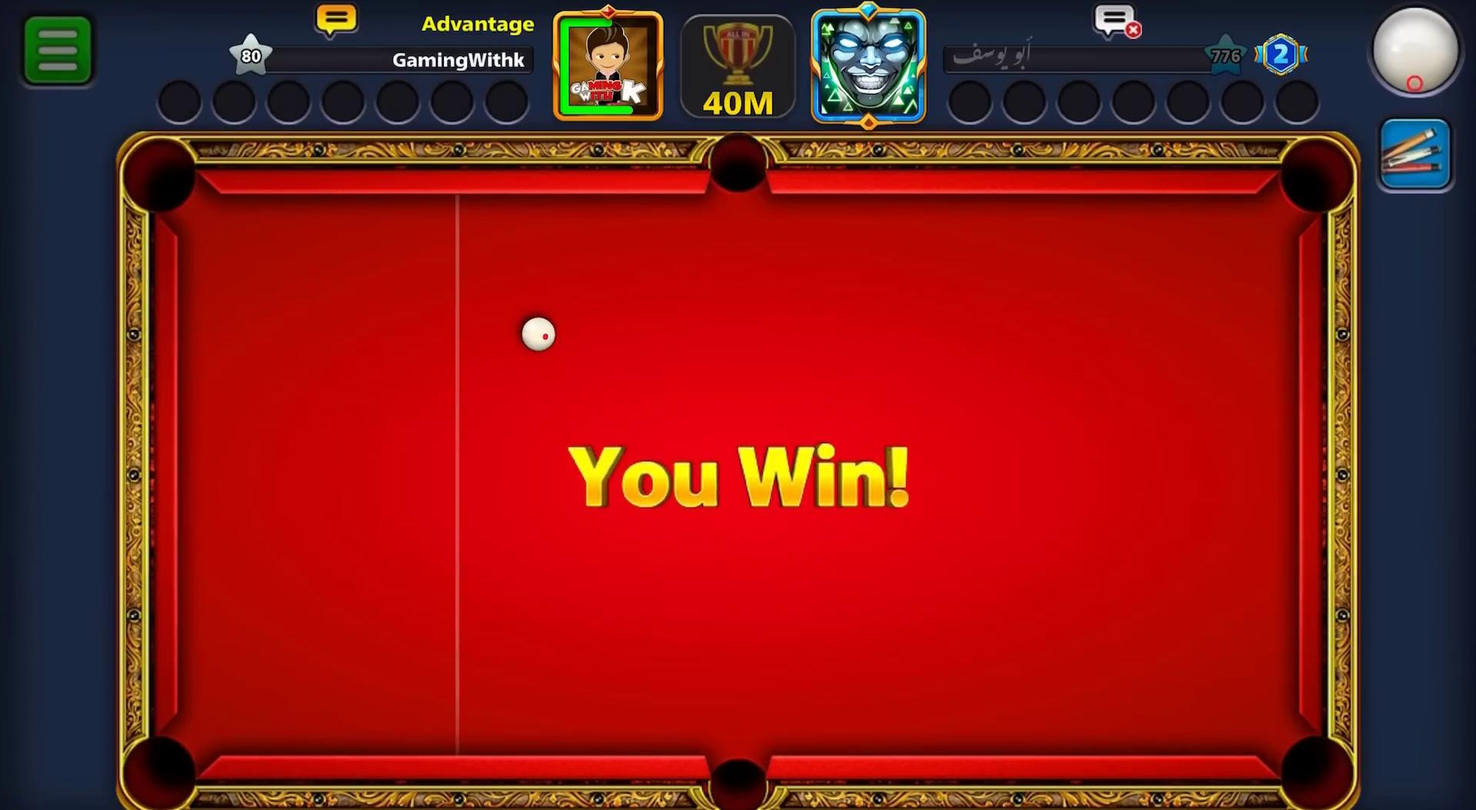Hole: (1261, 121, 1376, 230), (121, 135, 198, 212), (1277, 734, 1355, 809), (122, 733, 198, 808), (707, 132, 768, 192), (705, 755, 771, 809)
Play_Area: (173, 192, 1296, 754)
Spin: (1361, 0, 1475, 111)
White: (515, 313, 557, 353)
